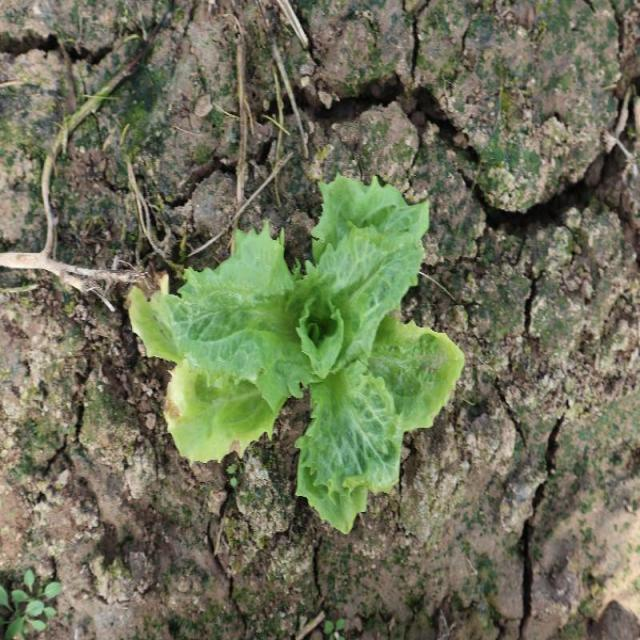crop: (128, 169, 465, 536)
